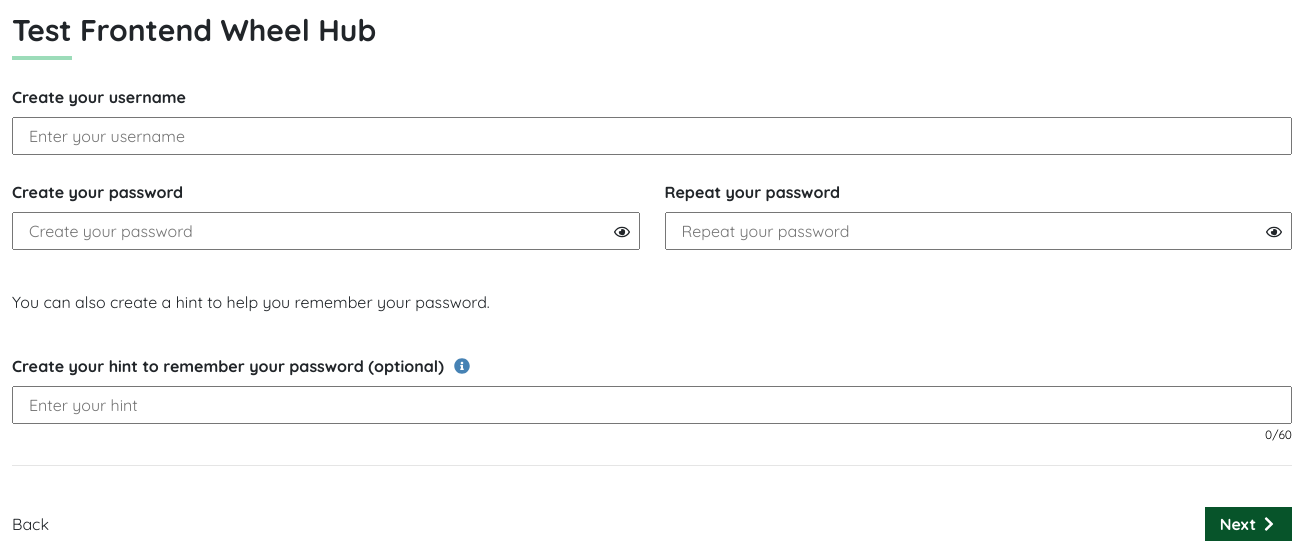
Test case: UserForm › clicking next button with short username gets warning
Type "Tom" into the field labelled "Create your username".
click(652, 136); type("Tom")  # box [12,117,1292,155]
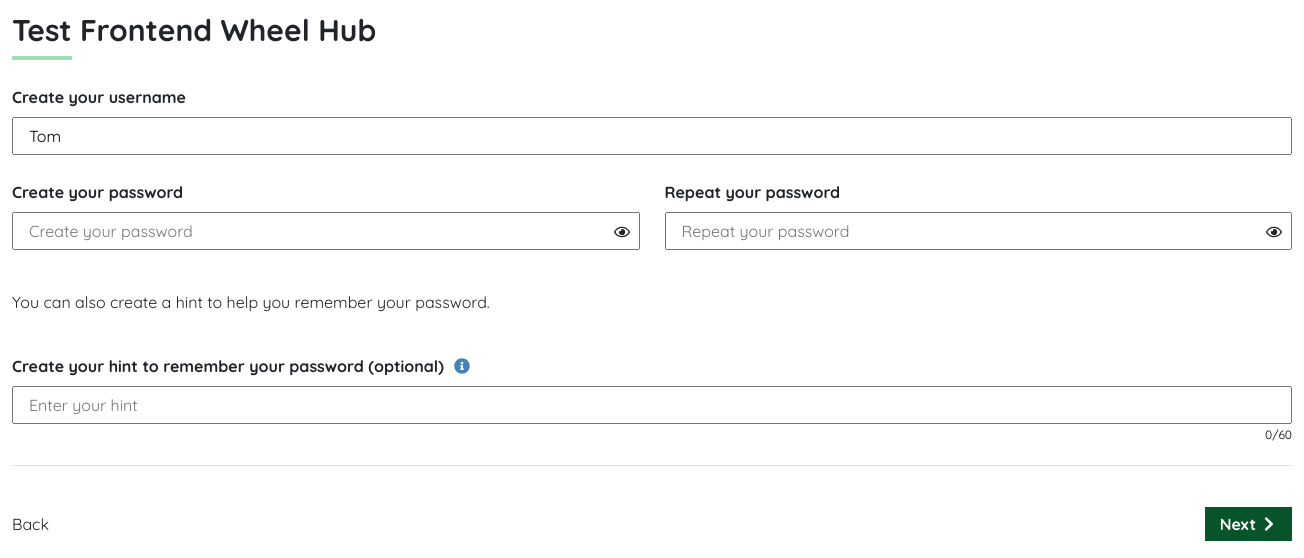
Click the button "Next".
click(1248, 524)  # box [1205,507,1292,541]
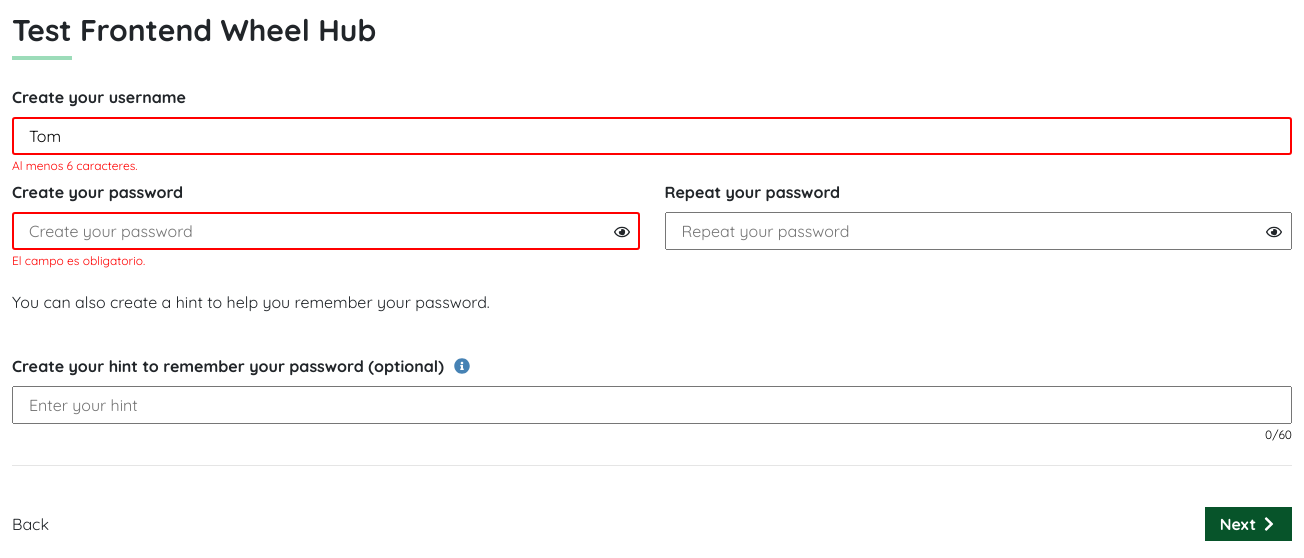
Check: the text "Al menos 6 caracteres." is shown, box [12,157,138,175]
